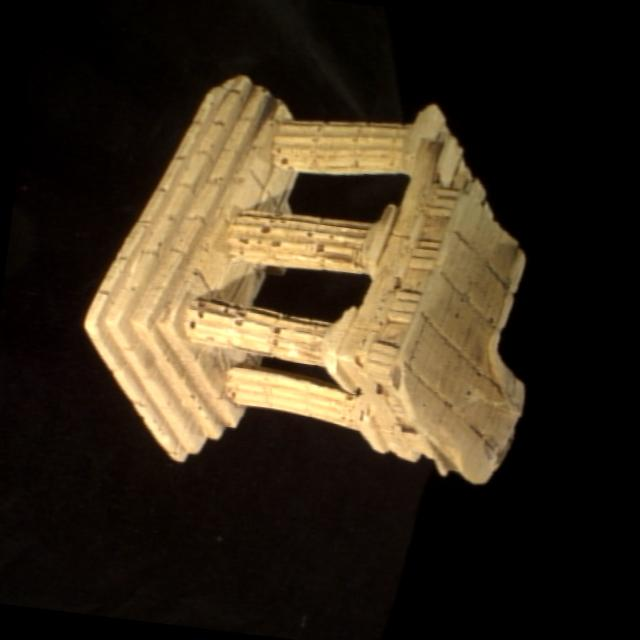Instance-Segmentation: (84, 75, 522, 481)
